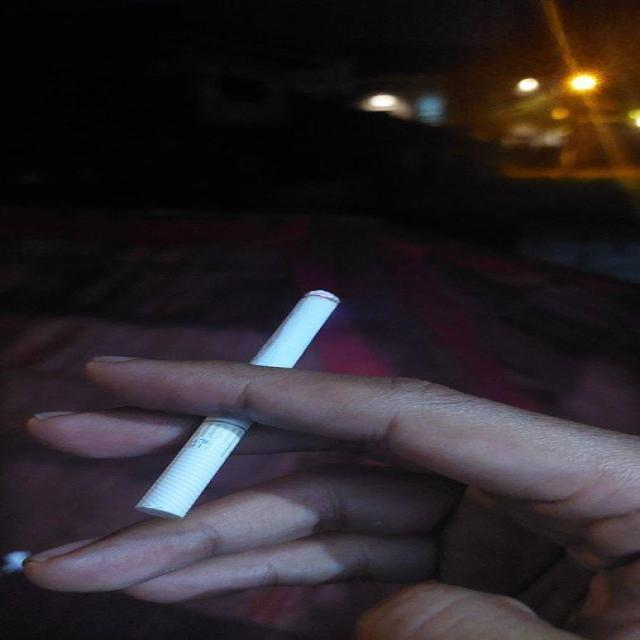rokok: (136, 282, 344, 518)
